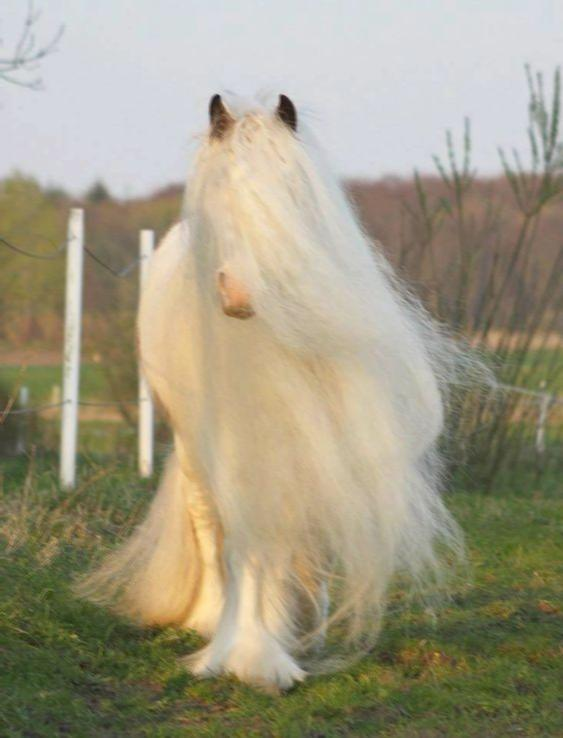horse: (68, 87, 503, 696)
